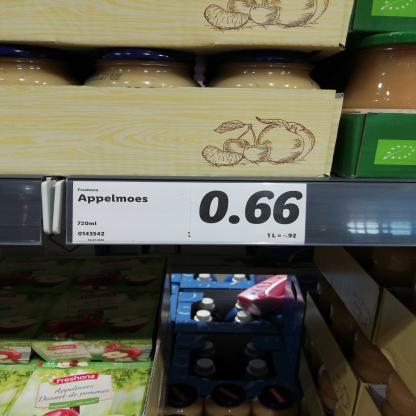prtg: (73, 182, 307, 245)
